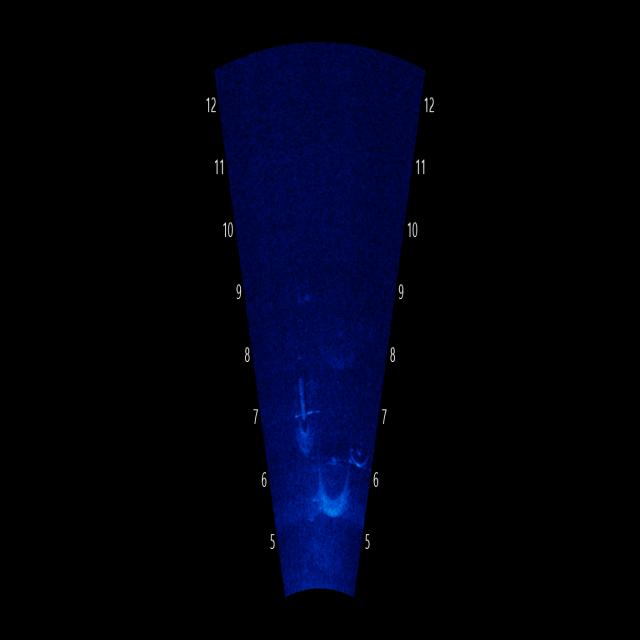circle: (314, 447, 356, 532)
